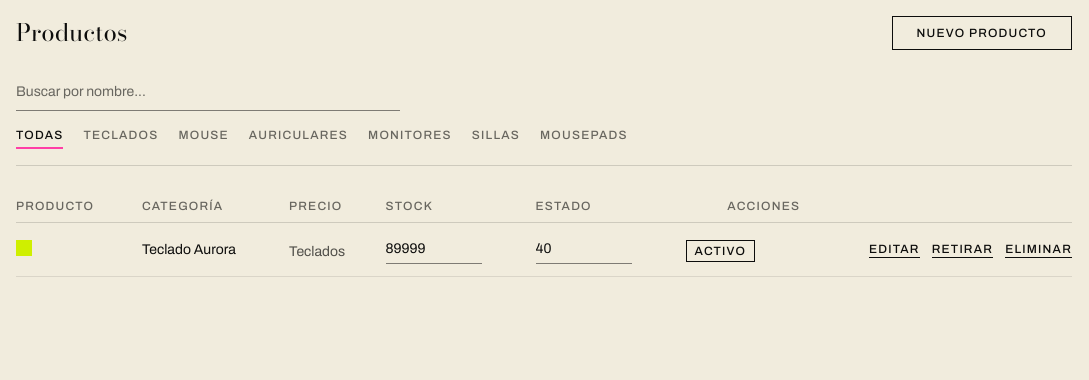
Test case: AdminProductsPage › un filtro sin resultados se lee distinto de "no hay productos" (F9.10)
This screenshot has width=1089, height=380.
Type "mouse" into the search field named "Buscar productos por nombre" at {"x": 208, "y": 92}, box [16,74,400,111]
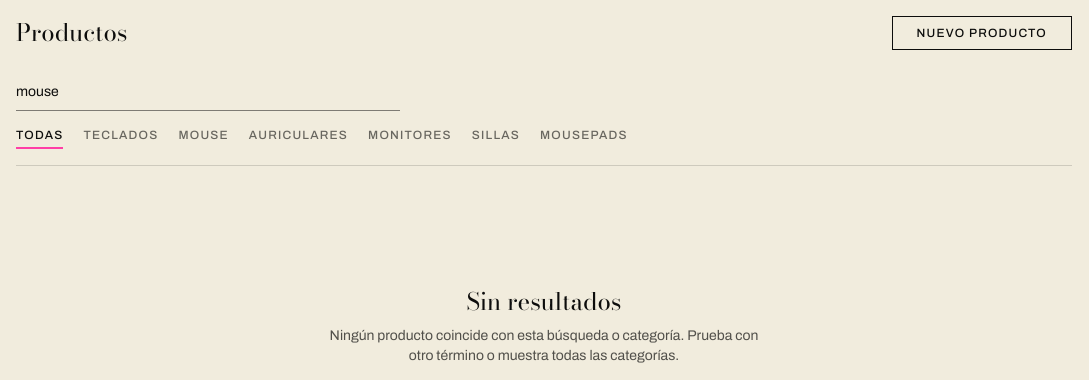
Check: the text "Sin resultados" is shown, box [467,286,622,318]
